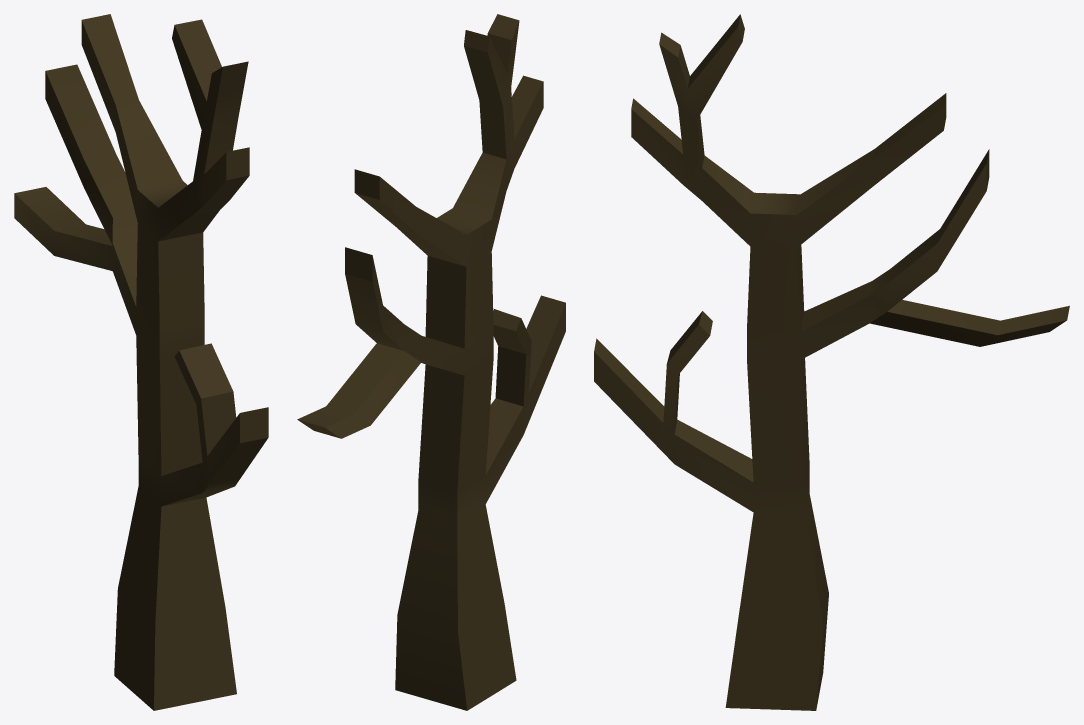
File: Kering tree.fbx
The picture shows the model from 3 angles, left to right: view 1: azimuth 30°, elevation 25°; view 2: azimuth 150°, elevation 25°; view 3: azimuth 270°, elevation 25°; orthographic projection. The views are drawn at different scales.
Visible parts, largest first — view 1: pasted__pasted__pCube1; view 2: pasted__pasted__pCube1; view 3: pasted__pasted__pCube1.
Boxes of the visible parts, x1,y1,x2,y2 form: pasted__pasted__pCube1: [14, 14, 268, 710]; pasted__pasted__pCube1: [297, 14, 565, 710]; pasted__pasted__pCube1: [594, 14, 1069, 710].
Bounding box in the file's own units: 1.22 × 9.2 × 5.94.
